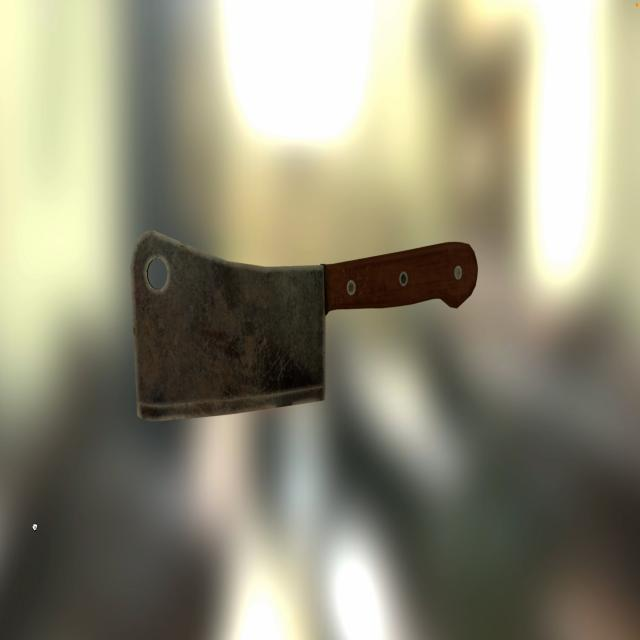cleaver: (134, 232, 472, 418)
